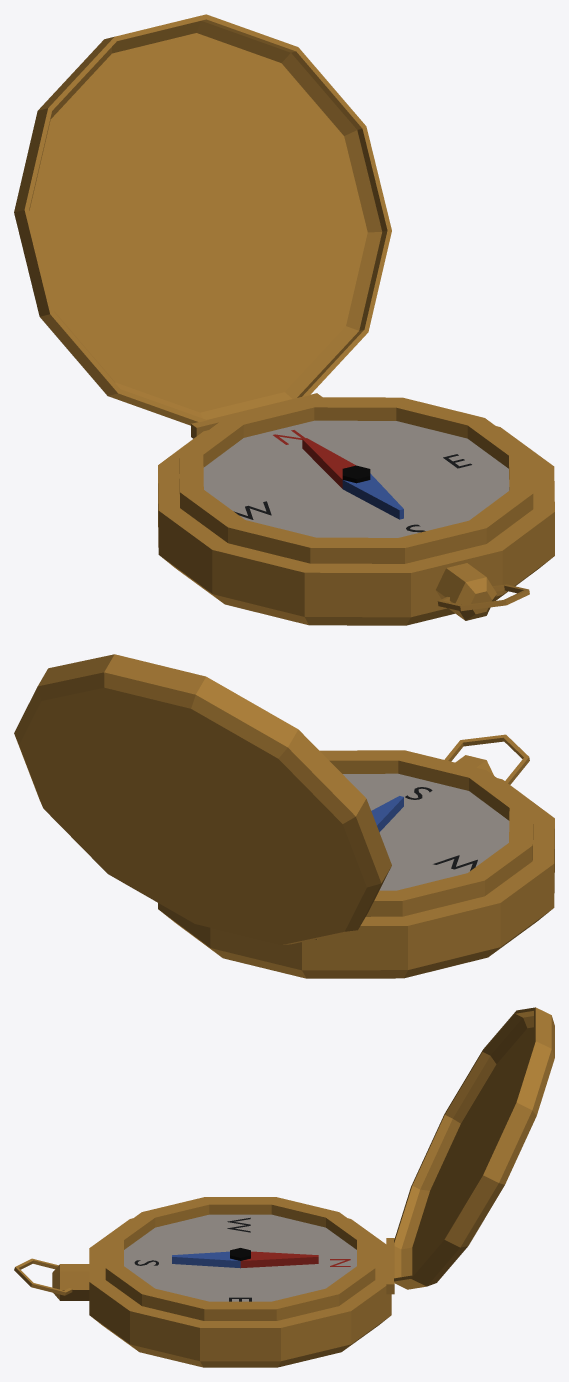
File: SM_Compass.gltf
3 views of the same model, one above another, from view 1: azimuth 30°, elevation 25°; view 2: azimuth 150°, elevation 25°; view 3: azimuth 270°, elevation 25° (orthographic). The views are drawn at different scales.
Parts seen in each view (by area): view 1: SM_Compass, Compass_Needle; view 2: SM_Compass, Compass_Needle; view 3: SM_Compass, Compass_Needle.
Part boxes in pixels (x1=…): SM_Compass: x1=14, y1=14, x2=554, y2=625; Compass_Needle: x1=302, y1=438, x2=403, y2=519; SM_Compass: x1=14, y1=654, x2=554, y2=978; Compass_Needle: x1=371, y1=796, x2=403, y2=832; SM_Compass: x1=14, y1=1007, x2=554, y2=1367; Compass_Needle: x1=172, y1=1248, x2=318, y2=1268.
Size of the model in its own units: 0.0602 by 0.0639 by 0.1095.
